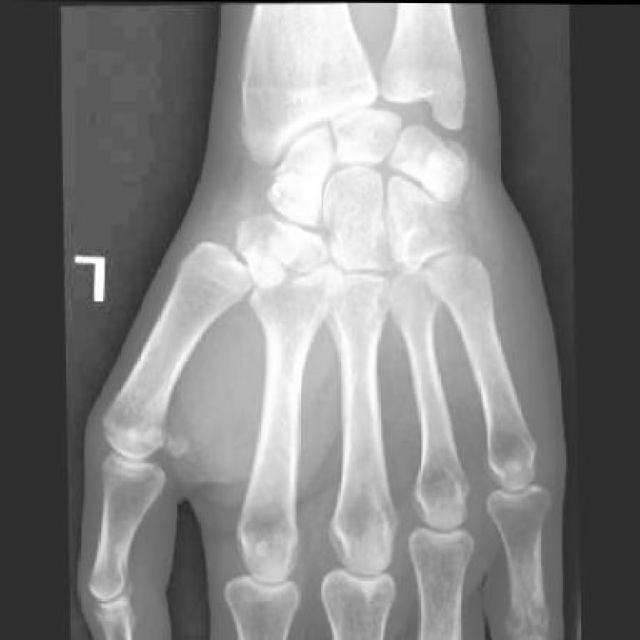Fracture: (266, 157, 328, 216)
